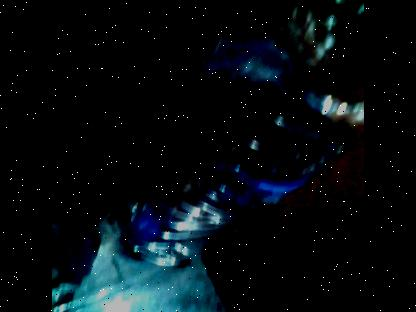Plastic Bottle: (108, 0, 363, 271)
